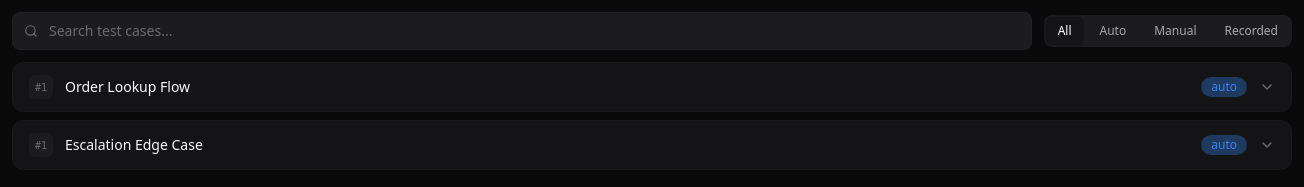
Test: TestCasesPanel › filters test cases by search query
The width and height of the screenshot is (1304, 187).
In the field with placeholder "Search test cases...": x=522, y=31 [12,12,1032,50], type "escalation"
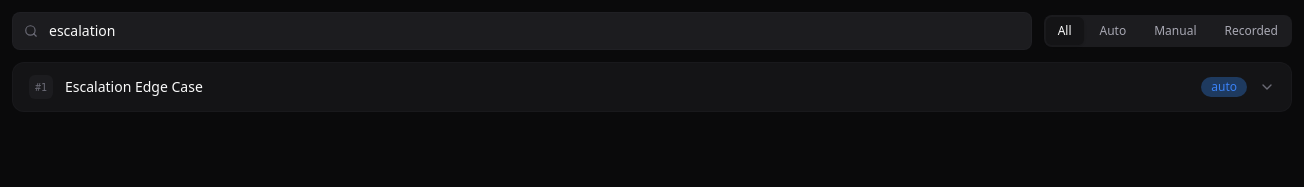
Expected: the text "Escalation Edge Case" is shown, [65,77,203,96]
Now the button "Order Lookup Flow" is gone
